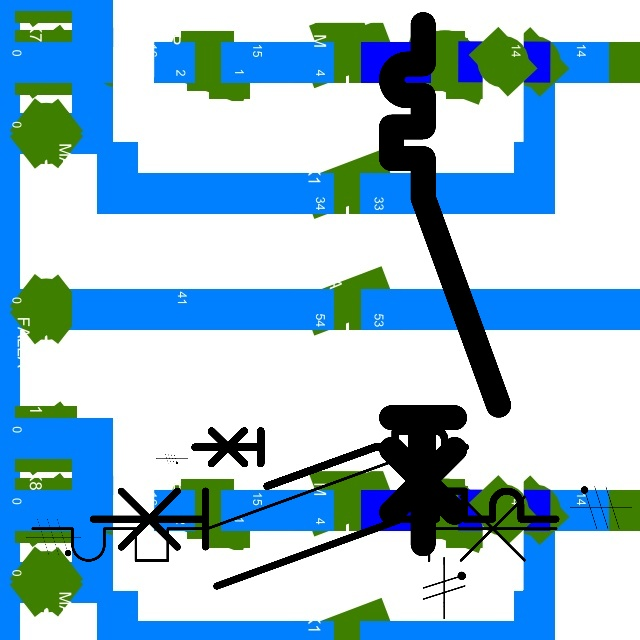interruptor_termomagnetico: (19, 439, 569, 574), (378, 11, 511, 557), (81, 479, 568, 598), (188, 424, 472, 493)
